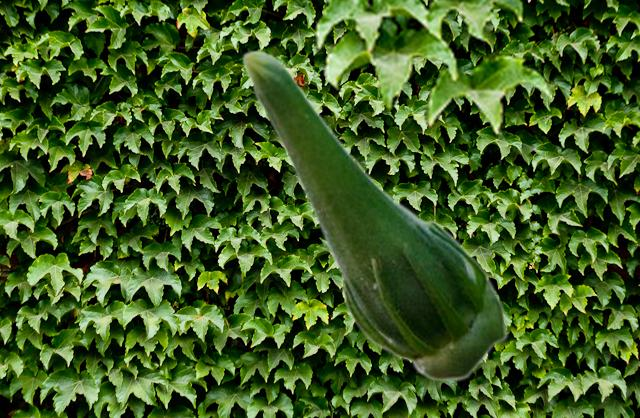okra: (241, 49, 507, 381)
